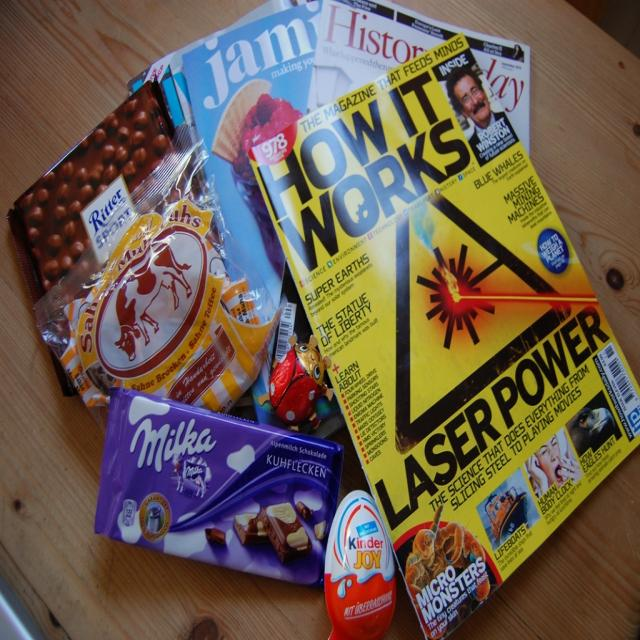milka: (129, 416, 219, 504)
